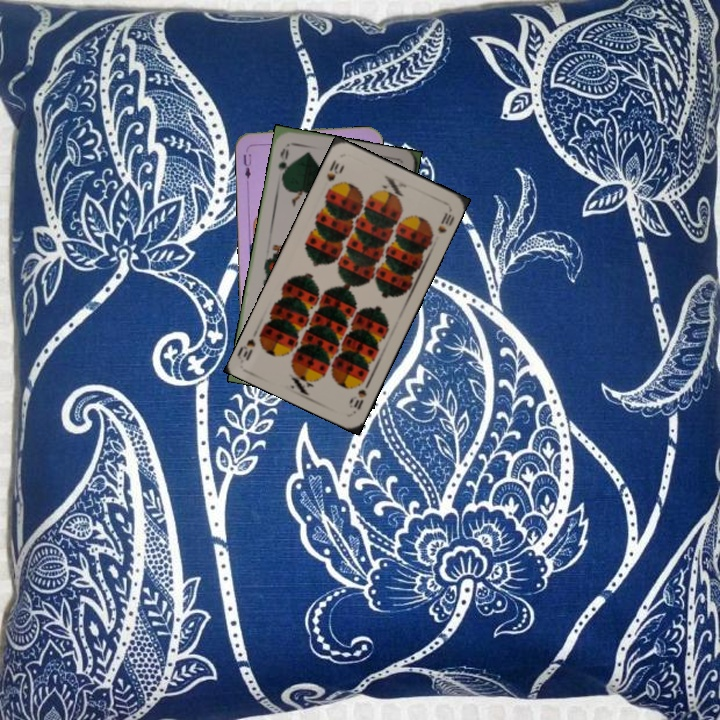EU: (240, 150, 254, 184)
GO: (274, 144, 292, 183)
S10: (323, 156, 347, 194), (345, 385, 369, 412)
